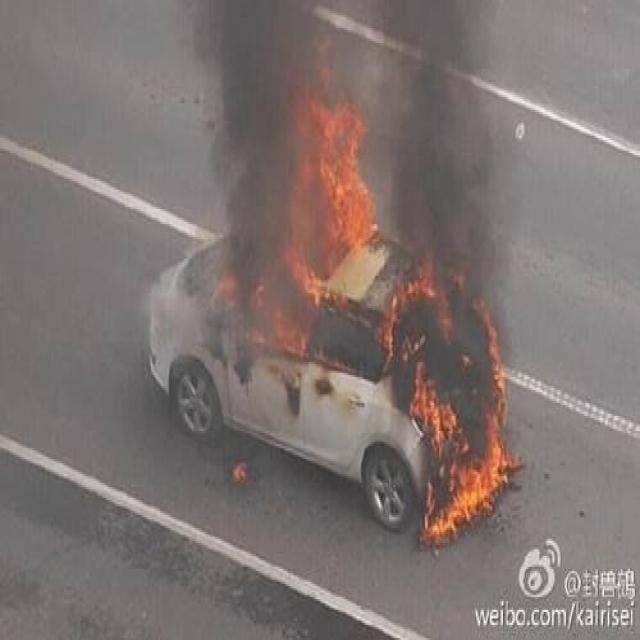fire: (210, 65, 379, 390), (386, 256, 514, 541)
smoke: (192, 2, 305, 272), (377, 0, 495, 256)
